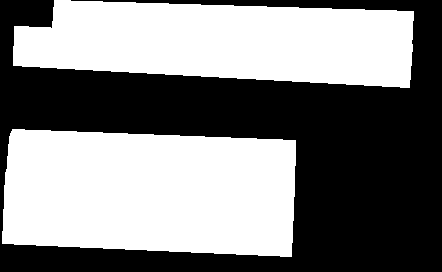parkingspot: (13, 26, 412, 87), (52, 0, 413, 49), (6, 129, 295, 190), (3, 172, 294, 232), (2, 218, 292, 256)
